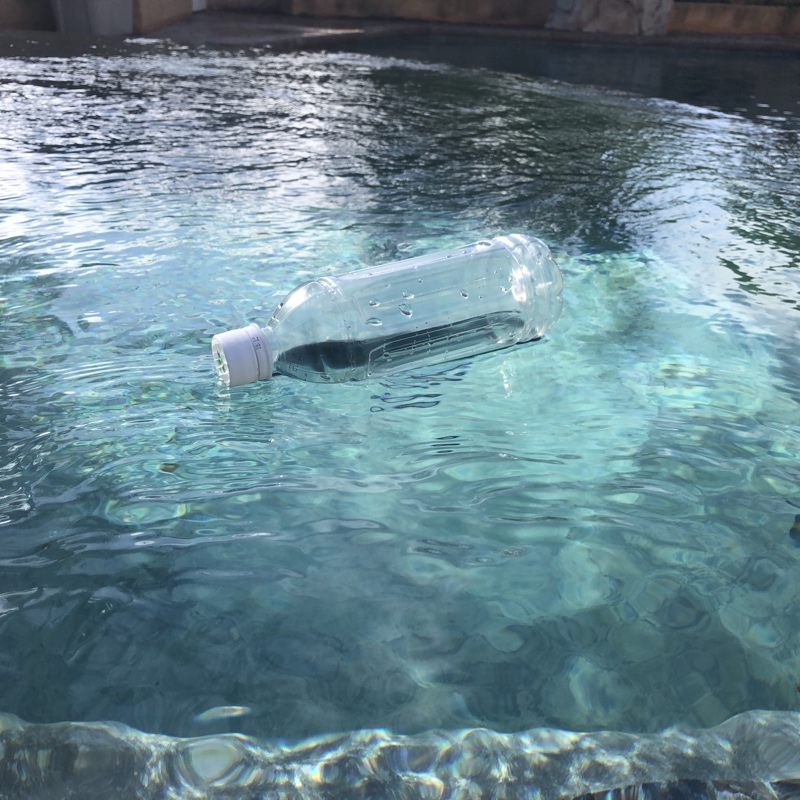Plastic Bottle: (208, 231, 563, 392)
